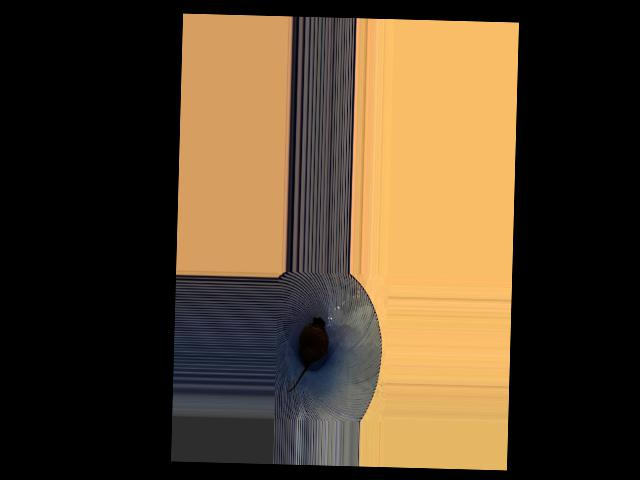beet: (287, 316, 328, 392)
